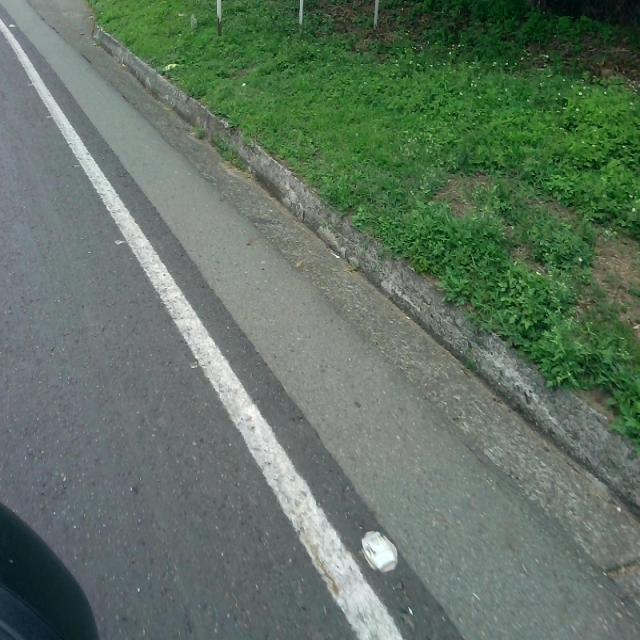DITCH: (1, 1, 638, 638)
